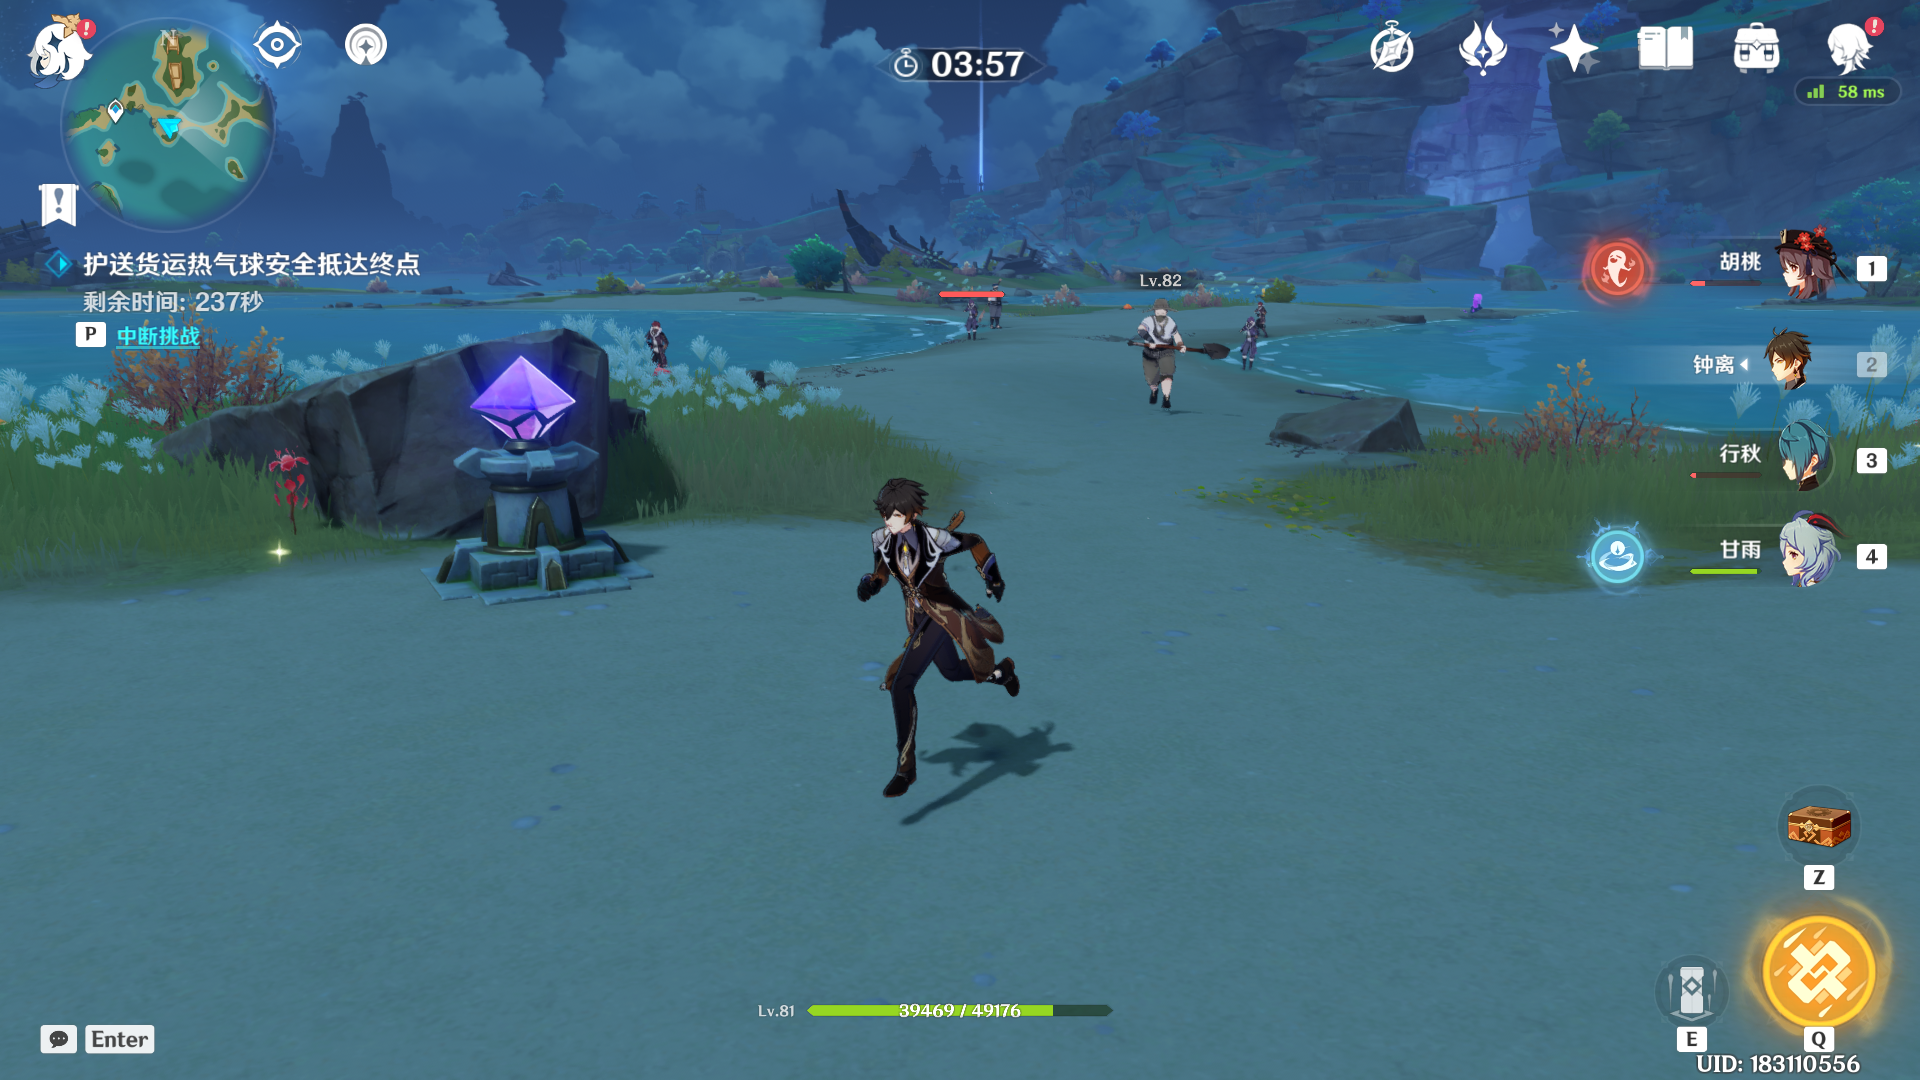character: (808, 456, 1036, 810)
robber: (1105, 295, 1208, 431)
